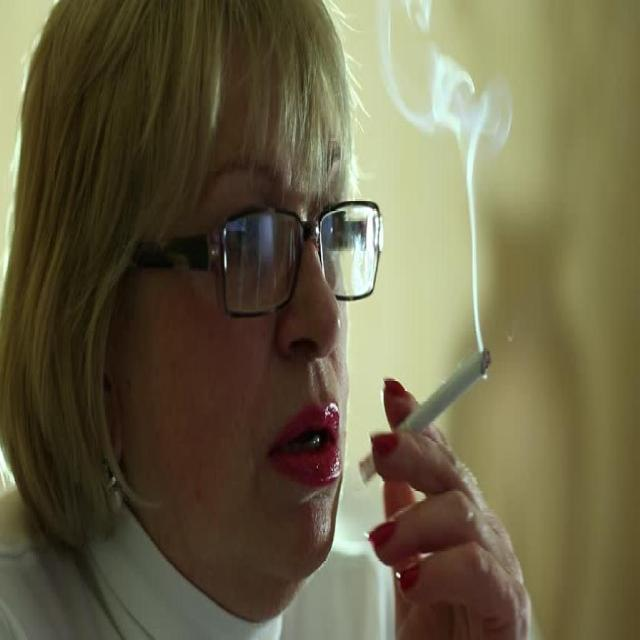smoking: (68, 1, 515, 607)
